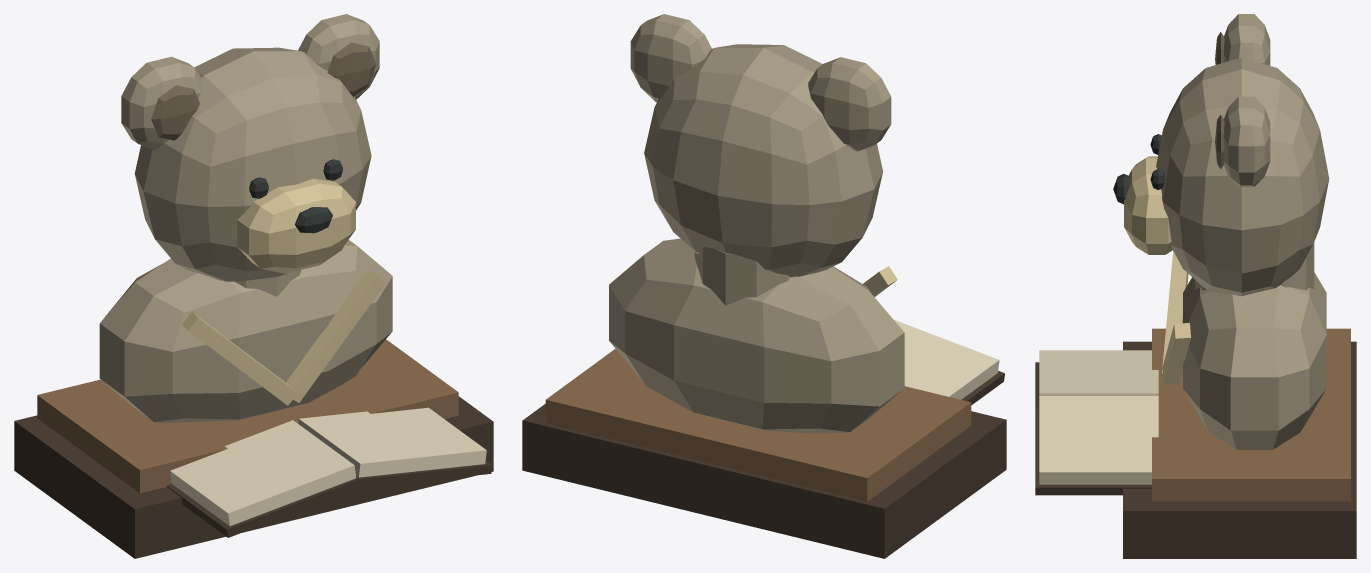
Rendered from 06_Memorial_Bust.fbx.
The picture shows the model from 3 angles, left to right: view 1: azimuth 30°, elevation 25°; view 2: azimuth 150°, elevation 25°; view 3: azimuth 270°, elevation 25°; orthographic projection. The views are drawn at different scales.
Parts seen in each view (by area): view 1: 06_Memorial_Bust__Body, 06_Memorial_Bust__History_Book; view 2: 06_Memorial_Bust__Body, 06_Memorial_Bust__History_Book; view 3: 06_Memorial_Bust__Body, 06_Memorial_Bust__History_Book.
Boxes of the visible parts, x1,y1,x2,y2 form: 06_Memorial_Bust__Body: [14, 14, 493, 558]; 06_Memorial_Bust__History_Book: [166, 407, 492, 537]; 06_Memorial_Bust__Body: [522, 14, 1006, 558]; 06_Memorial_Bust__History_Book: [894, 320, 1004, 405]; 06_Memorial_Bust__Body: [1113, 14, 1356, 558]; 06_Memorial_Bust__History_Book: [1035, 350, 1158, 495].
Size of the model in its own units: 242 by 275 by 194.
Materials: 1 (1 with a texture image).
